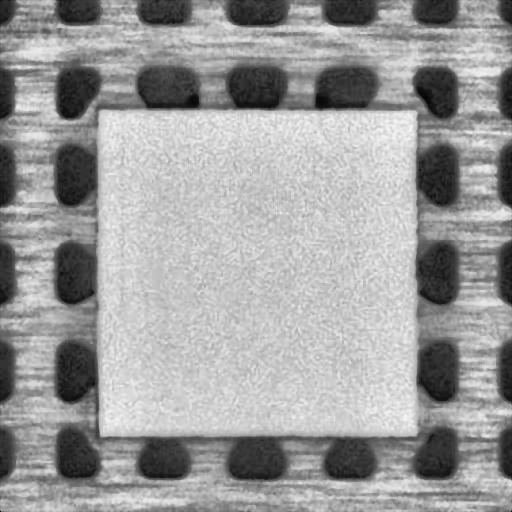DIE_CRACK: (110, 125, 128, 329)
